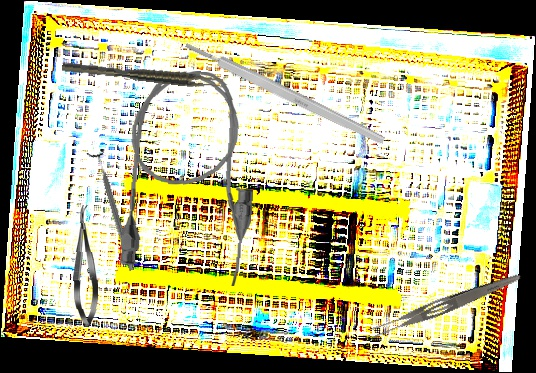Cannula: (118, 66, 262, 288)
Dressing Forceps: (366, 266, 524, 343)
Fixation Ring: (86, 147, 141, 274)
Micro Scissor: (70, 204, 100, 328)
Scalpel Handle: (183, 38, 387, 147)
Tissue Forceps: (61, 57, 224, 91)
